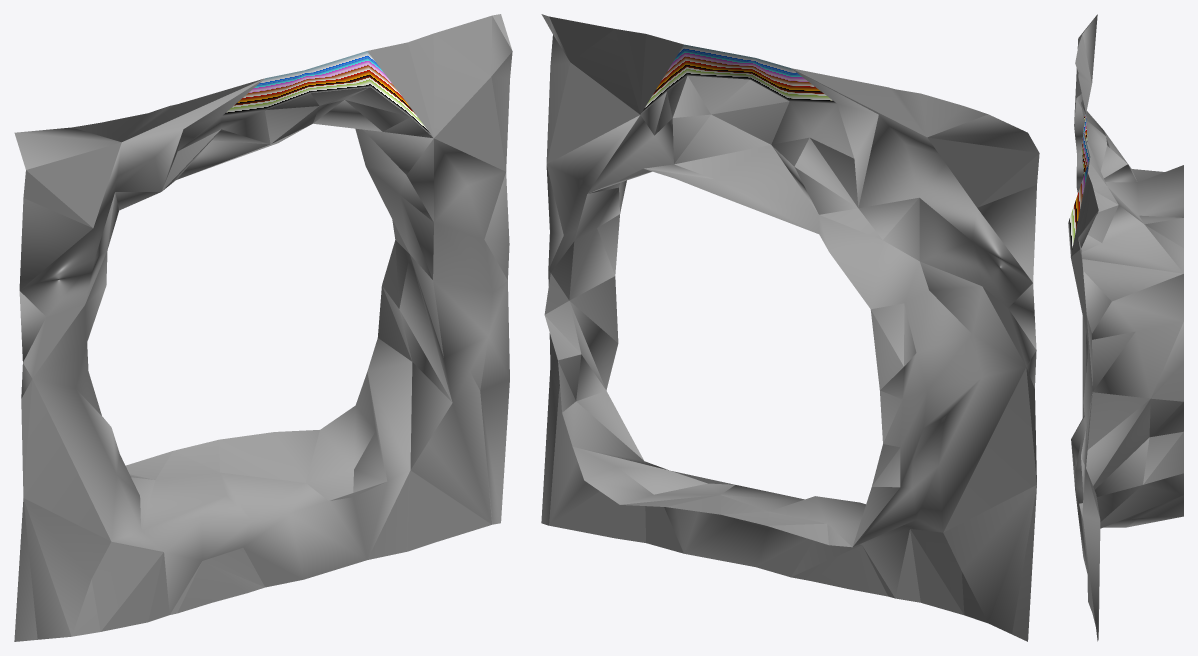
The model's file is WallTunnelEntrance1.fbx.
The picture shows the model from 3 angles, left to right: view 1: azimuth 30°, elevation 25°; view 2: azimuth 150°, elevation 25°; view 3: azimuth 270°, elevation 25°; orthographic projection. The views are drawn at different scales.
Visible parts, largest first — view 1: WallTunnelEntrance1; view 2: WallTunnelEntrance1; view 3: WallTunnelEntrance1.
Boxes of the visible parts, box(x1,y1,x2,y2) form: WallTunnelEntrance1: box(14, 14, 512, 641); WallTunnelEntrance1: box(541, 14, 1039, 641); WallTunnelEntrance1: box(1068, 14, 1183, 641).
Size of the model in its own units: 500 by 500 by 123.
